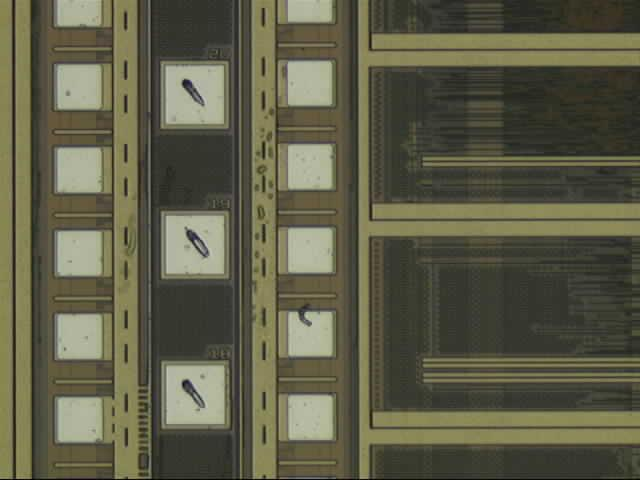COATING BAD: (93, 1, 303, 480)
